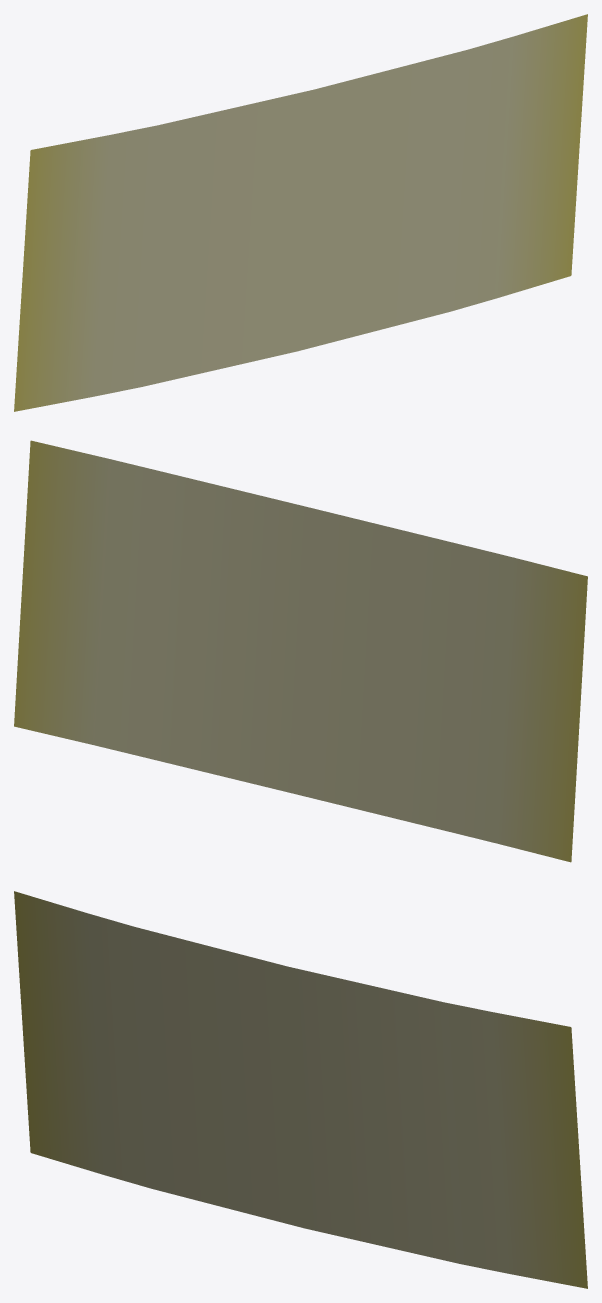
File: WindowBack2_0.glb
3 renders of one model, top to bottom at view 1: azimuth 30°, elevation 25°; view 2: azimuth 150°, elevation 25°; view 3: azimuth 330°, elevation 25°, orthographic.
Parts seen in each view (by area): view 1: WindowBack2; view 2: WindowBack2; view 3: WindowBack2.
Boxes of the visible parts, x1,y1,x2,y2 form: WindowBack2: (14,14,587,411); WindowBack2: (14,440,587,862); WindowBack2: (14,891,587,1288).
Bounding box in the file's own units: 2.68 × 1.28 × 0.1793.
